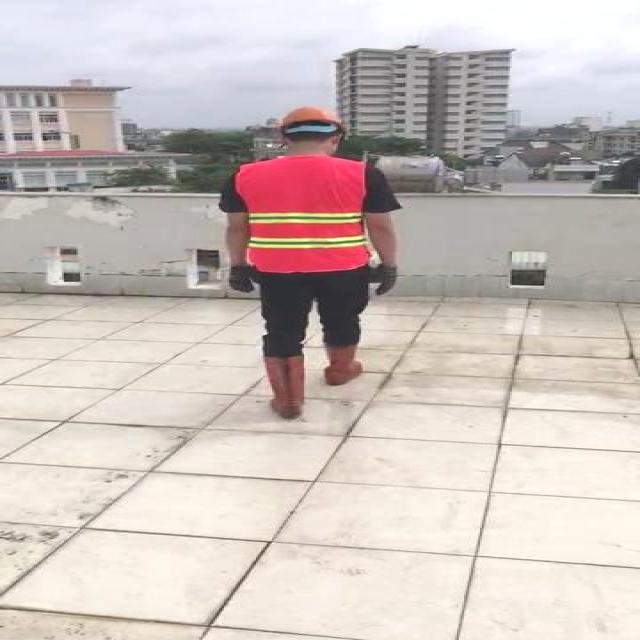boots: (260, 353, 310, 417), (322, 341, 364, 386)
hand_glove: (226, 264, 260, 293), (368, 265, 398, 295)
head_helmet: (274, 103, 348, 135)
person: (214, 101, 410, 426)
vest: (240, 155, 368, 271)
